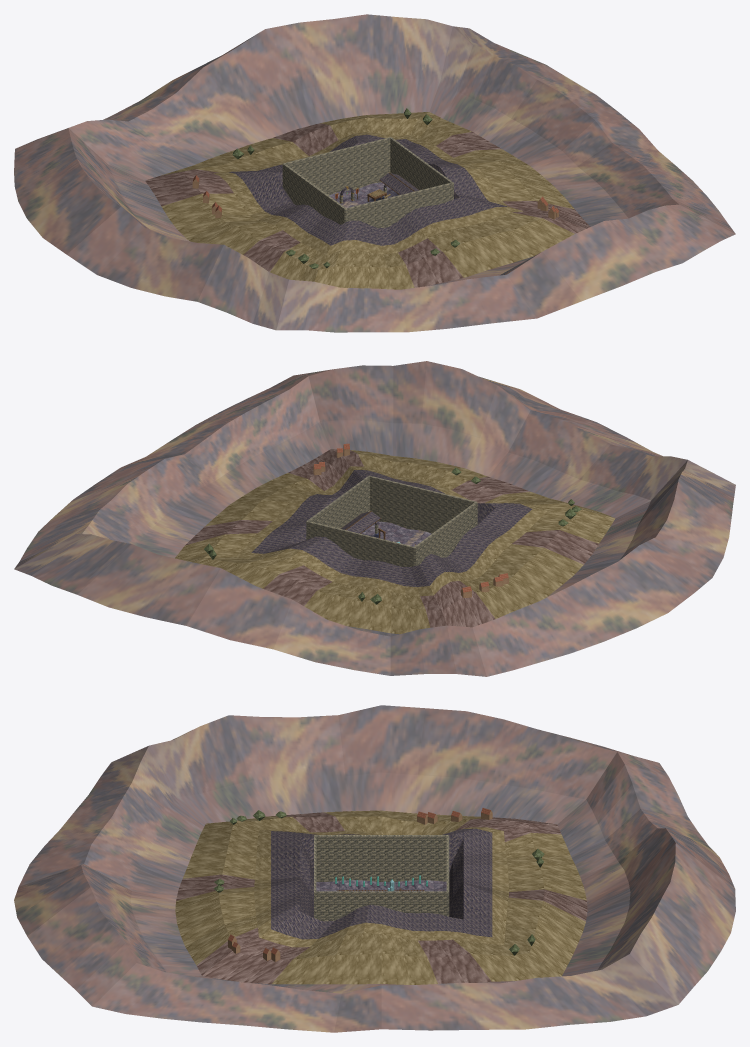
File: Glasscut.fbx
The picture shows the model from 3 angles, top to bottom: view 1: azimuth 30°, elevation 25°; view 2: azimuth 150°, elevation 25°; view 3: azimuth 270°, elevation 25°; orthographic projection. The views are drawn at different scales.
Visible parts, largest first — view 1: Surroundings, C_Solids, Rim, Set, Terrain; view 2: Surroundings, C_Solids, Rim, Terrain, Set; view 3: Surroundings, Rim, C_Solids, Terrain.
Part boxes in pixels (bbox=[...]): Surroundings: bbox=[14, 14, 735, 332]; C_Solids: bbox=[282, 137, 453, 228]; Rim: bbox=[229, 134, 507, 245]; Set: bbox=[335, 172, 419, 203]; Terrain: bbox=[329, 182, 399, 208]; Surroundings: bbox=[14, 361, 735, 676]; C_Solids: bbox=[306, 475, 477, 566]; Rim: bbox=[251, 470, 532, 586]; Terrain: bbox=[361, 521, 431, 546]; Set: bbox=[341, 511, 385, 539]; Surroundings: bbox=[14, 705, 735, 1032]; Rim: bbox=[271, 828, 492, 939]; C_Solids: bbox=[314, 835, 449, 921]; Terrain: bbox=[316, 880, 446, 891].
Size of the model in its own units: 21928 by 3102 by 22192.
